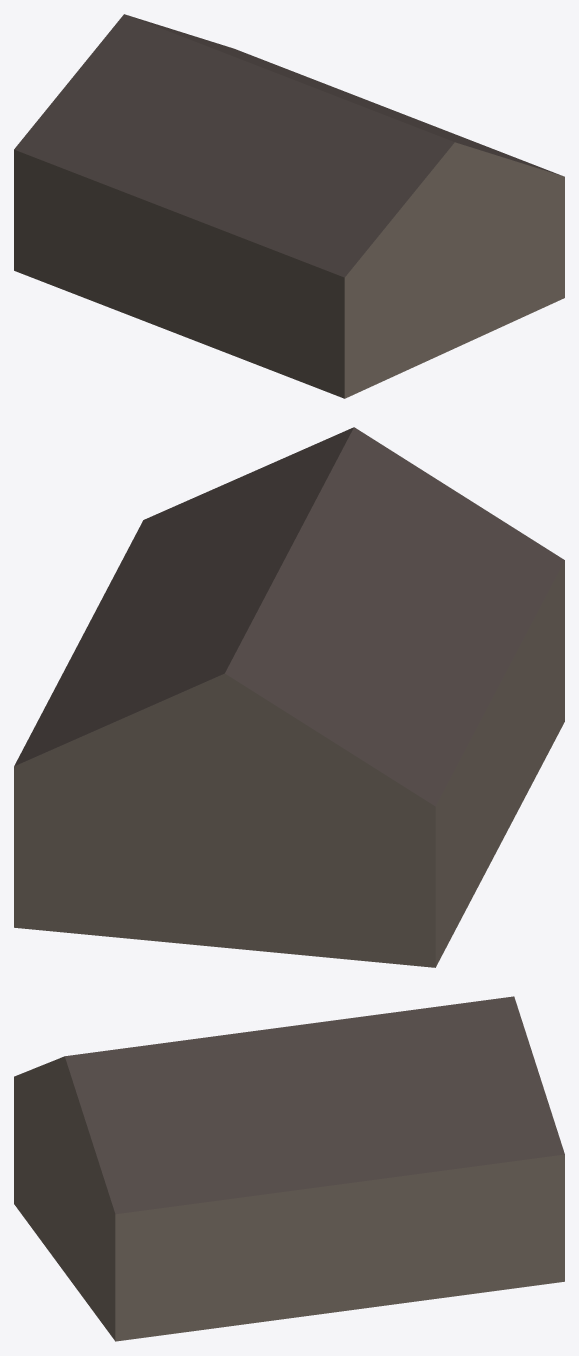
The picture shows the model from 3 angles, top to bottom: view 1: azimuth 30°, elevation 25°; view 2: azimuth 150°, elevation 25°; view 3: azimuth 270°, elevation 25°; orthographic projection. The views are drawn at different scales.
Visible parts, largest first — view 1: HP-w494956625; view 2: HP-w494956625; view 3: HP-w494956625.
Boxes of the visible parts, x1,y1,x2,y2 form: HP-w494956625: [14, 14, 564, 398]; HP-w494956625: [14, 427, 564, 967]; HP-w494956625: [14, 996, 564, 1341].
Bounding box in the file's own units: 19.96 × 10.21 × 23.54.
